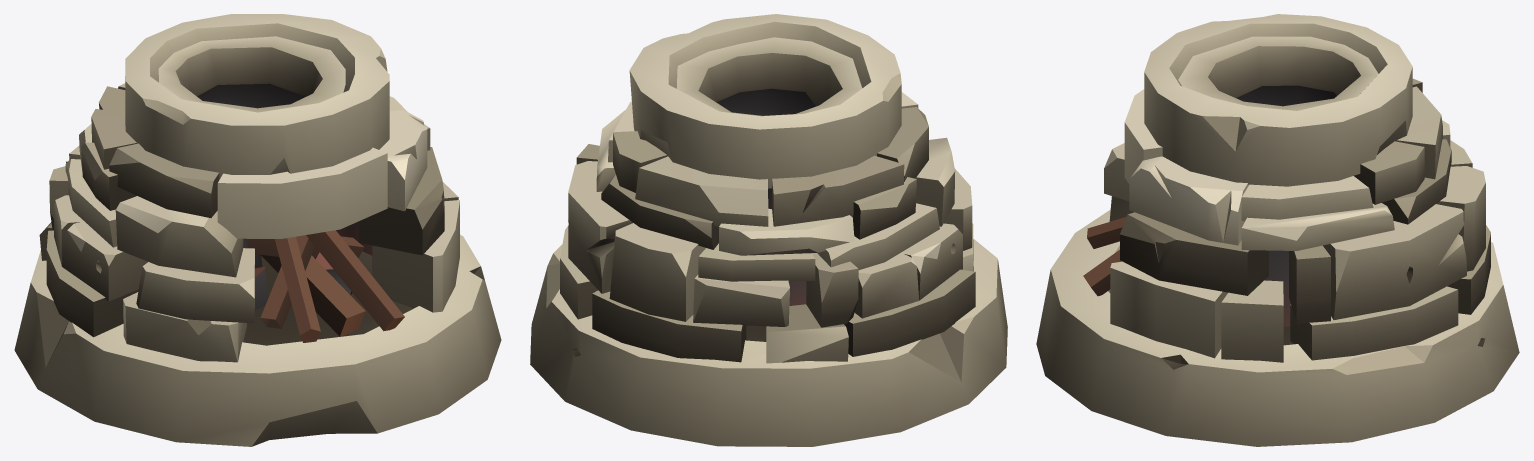
Rendered from Furnace_1C.fbx.
The picture shows the model from 3 angles, left to right: view 1: azimuth 30°, elevation 25°; view 2: azimuth 150°, elevation 25°; view 3: azimuth 270°, elevation 25°; orthographic projection.
Parts seen in each view (by area): view 1: Furnace_1C; view 2: Furnace_1C; view 3: Furnace_1C.
Part boxes in pixels (box(x1,y1,x2,y2)): Furnace_1C: box(14, 14, 501, 446); Furnace_1C: box(530, 14, 1007, 446); Furnace_1C: box(1036, 14, 1519, 446).
Size of the model in its own units: 3.38 by 2.15 by 3.37.
